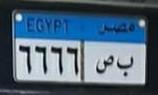6: (66, 45, 81, 75), (34, 45, 48, 74), (19, 45, 32, 73), (51, 47, 63, 73)
baa: (117, 53, 136, 76)
saad: (95, 53, 115, 74)
